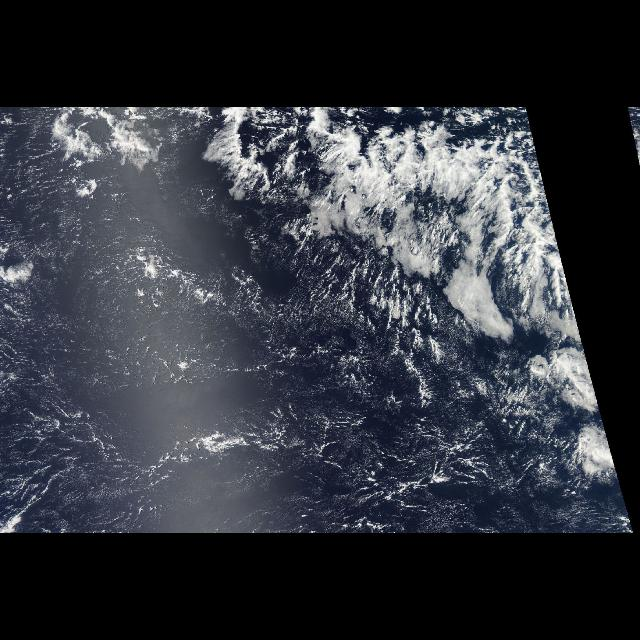Fish: (216, 125, 542, 335)
Gravel: (314, 410, 508, 524), (26, 365, 144, 511)
Sugar: (2, 107, 320, 533)
